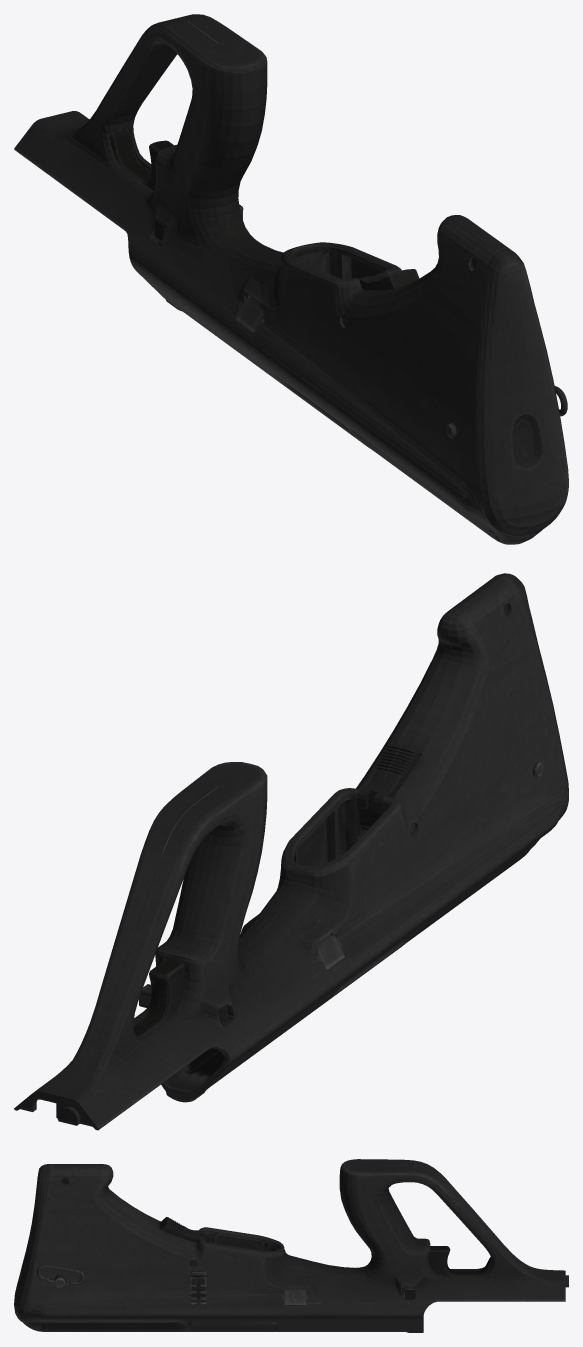
3 renders of one model, top to bottom at view 1: azimuth 30°, elevation 25°; view 2: azimuth 150°, elevation 25°; view 3: azimuth 270°, elevation 25°, orthographic. The views are drawn at different scales.
Visible parts, largest first — view 1: TW_6718817435e3cfd9550d2c27_PZ_Import; view 2: TW_6718817435e3cfd9550d2c27_PZ_Import; view 3: TW_6718817435e3cfd9550d2c27_PZ_Import.
Part boxes in pixels (<box>): TW_6718817435e3cfd9550d2c27_PZ_Import: <box>14,14,568,544</box>; TW_6718817435e3cfd9550d2c27_PZ_Import: <box>14,573,568,1130</box>; TW_6718817435e3cfd9550d2c27_PZ_Import: <box>14,1159,568,1332</box>.
Size of the model in its own units: 0.0383 by 0.2917 by 0.0966.
Materials: 1 (1 with a texture image).
